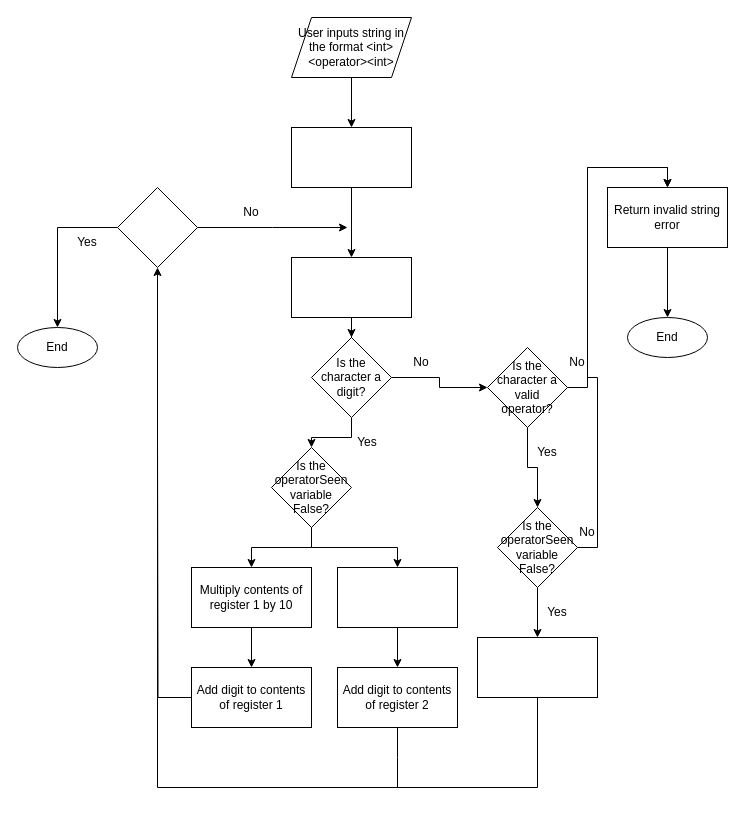
The diagram is 745 pixels wide and 813 high, and some of its shapes have lost their labels. The centre of each missing label's shape, as x and y in pixels:
Check the next character in the string: the point at 351,287
Multiply contents of register 2 by 10: the point at 397,597
Set "operatorSeen" to False: the point at 351,157
Store operator, set operatorSeen to True: the point at 537,667
Was that the last character in the string?: the point at 157,227
